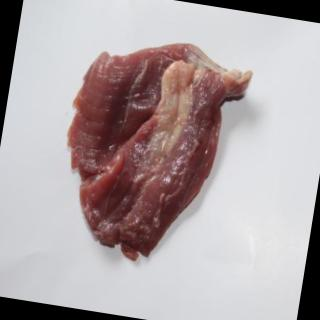Daging Sapi: (51, 27, 256, 274)
